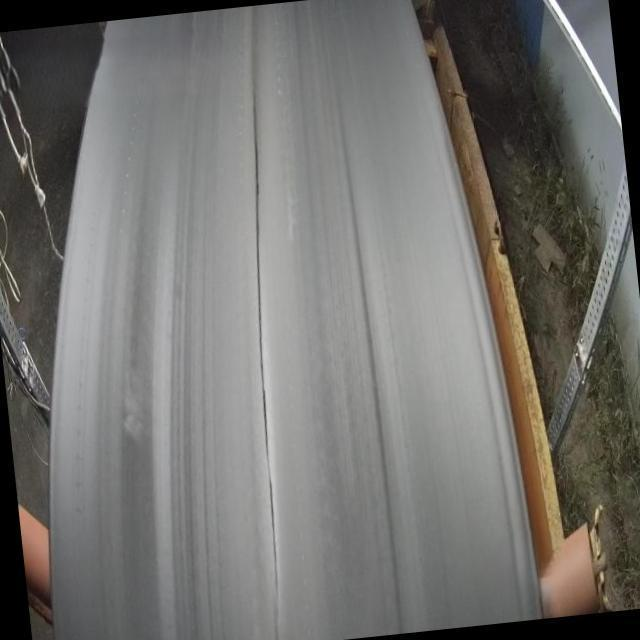Tear: (238, 55, 286, 609)
